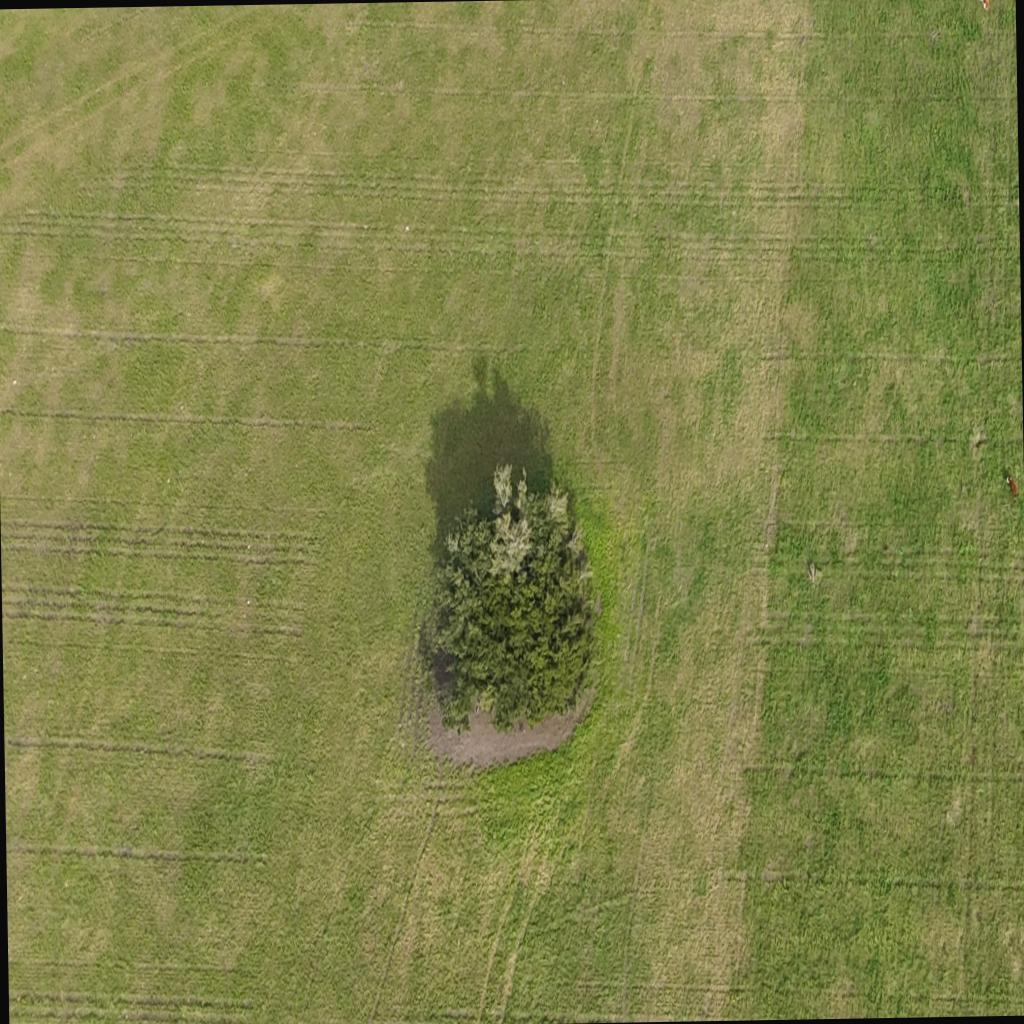cow: (1000, 466, 1020, 506), (806, 560, 820, 584), (976, 0, 991, 17), (1004, 468, 1012, 484)
